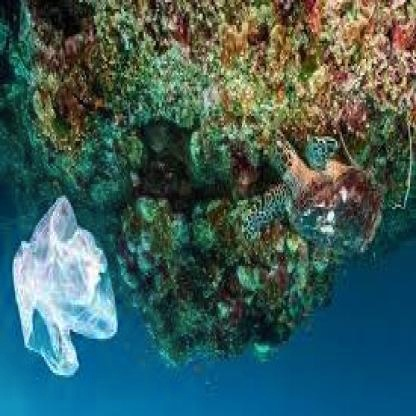pbag: (11, 193, 118, 382)
